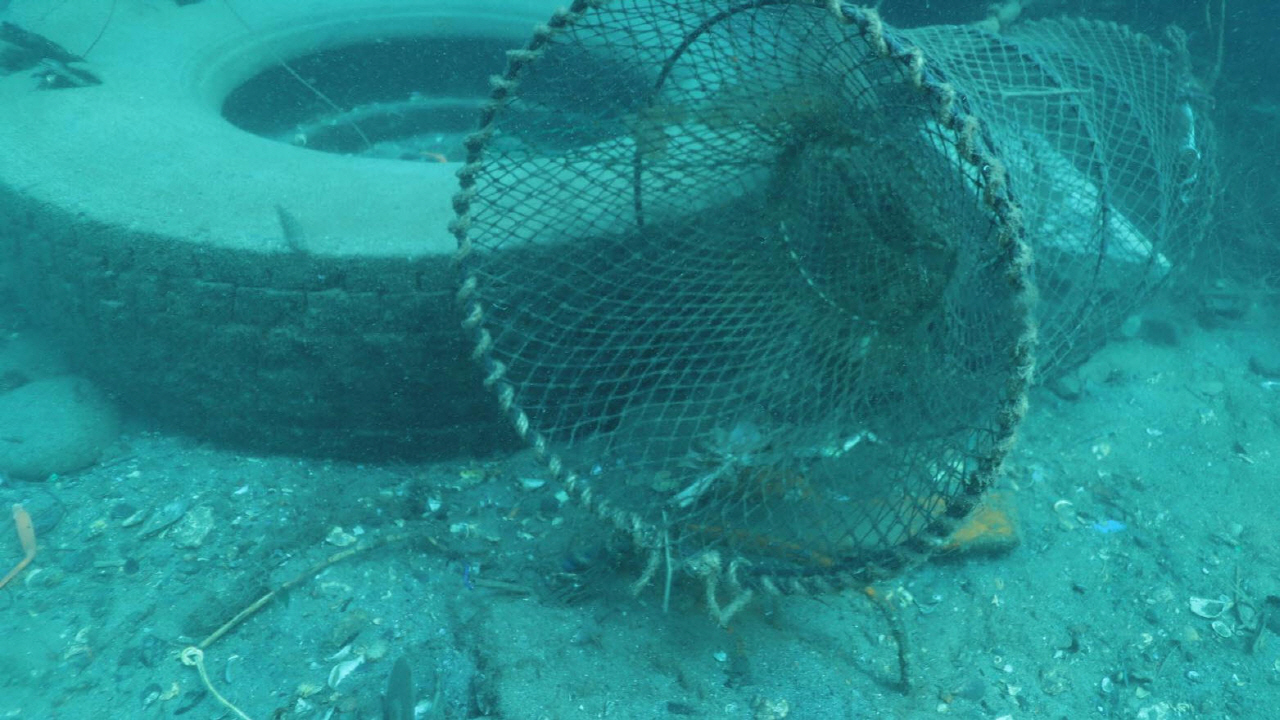spring fish trap: (450, 0, 1223, 594)
tire: (0, 0, 875, 456)
